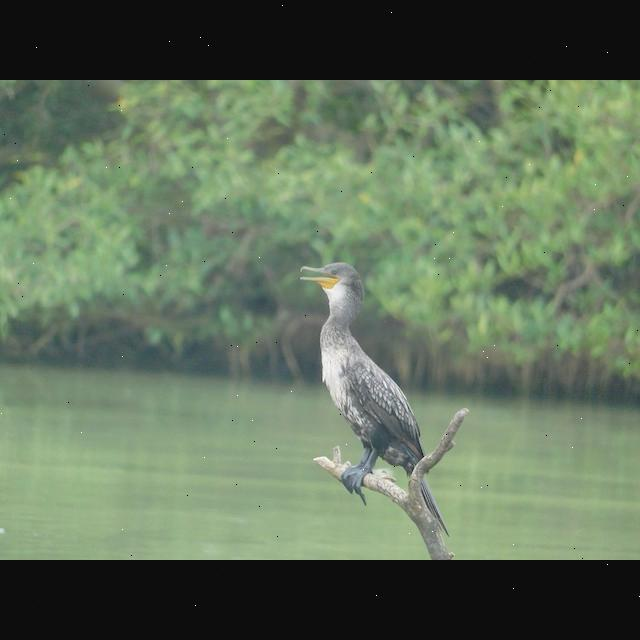cormorant: (291, 254, 453, 528)
